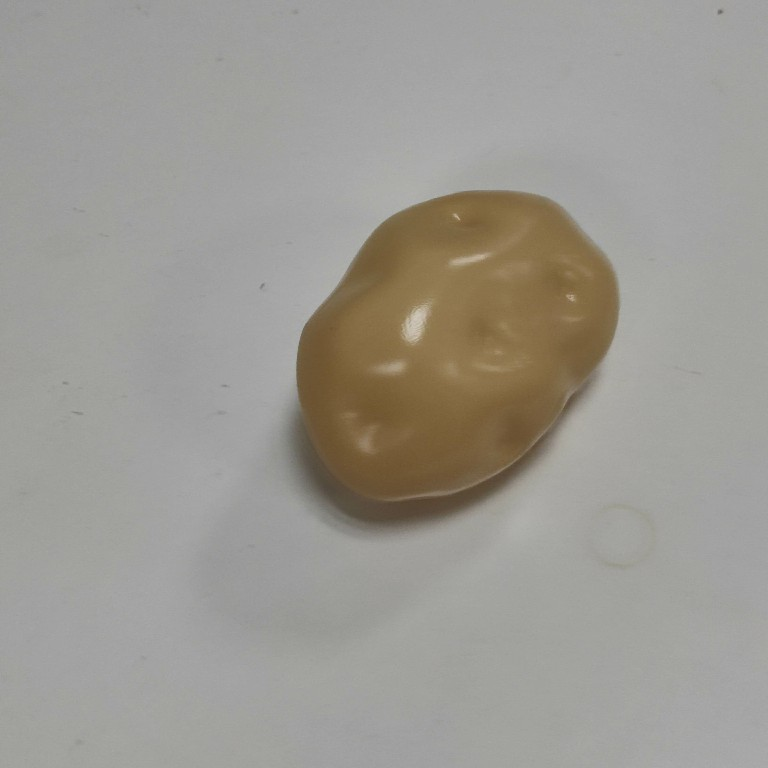fruit_potato: (293, 187, 625, 505)
